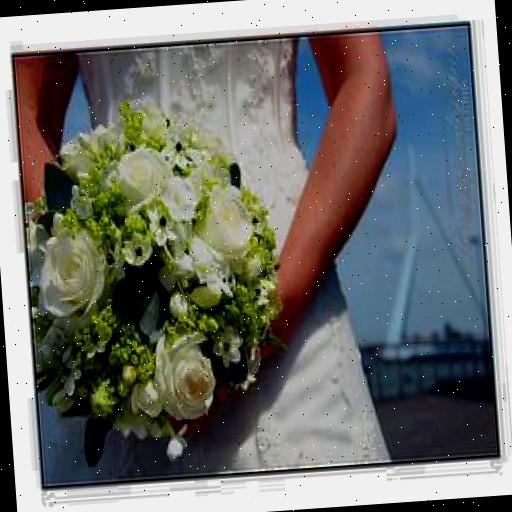rose: (148, 340, 218, 422), (41, 230, 106, 316), (198, 184, 256, 261), (112, 147, 172, 212)
